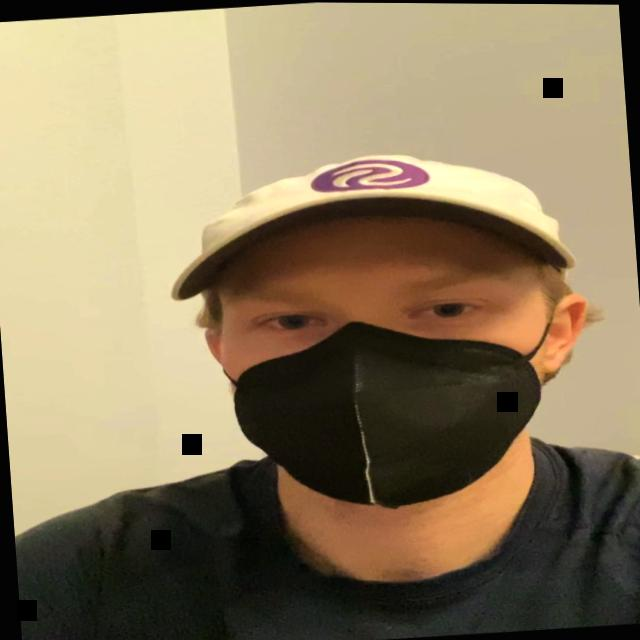Mask: (192, 210, 568, 520)
